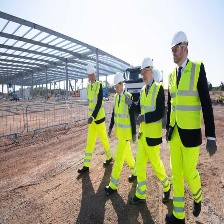helmet: (168, 32, 190, 51), (138, 55, 154, 71), (110, 73, 124, 87), (83, 63, 95, 77)
person: (164, 32, 213, 221), (133, 55, 172, 210), (108, 72, 141, 185), (82, 60, 110, 168)
vest: (165, 61, 212, 139), (138, 85, 165, 147), (112, 92, 137, 147), (85, 82, 108, 126)
